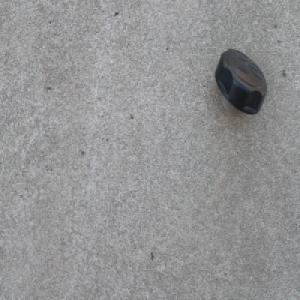FuelCap: (213, 47, 268, 118)
